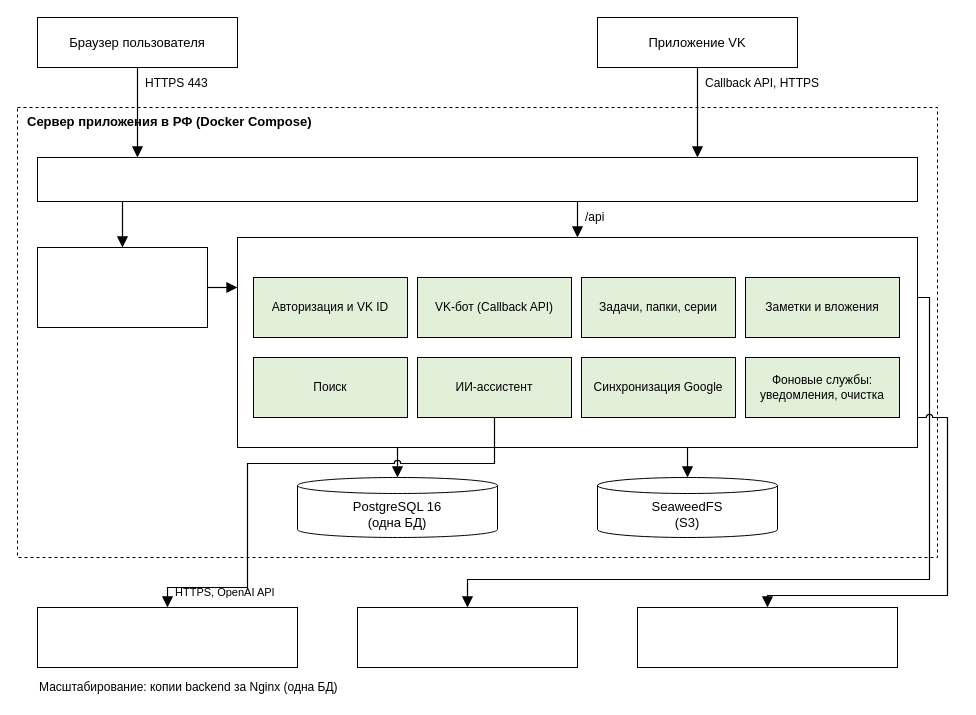
Some shapes in this 976 by 715 pixel diagram are drawn without their labels. Here are the shapes that lost their labels. From the top down, the box of each, then its label:
(36, 156, 918, 202): Nginx: обратный прокси, TLS
(36, 246, 208, 328): Frontend Next.js
(236, 236, 918, 448): Backend: одно приложение ASP.NET Core
(36, 606, 298, 668): GPU-сервер (RunPod): vLLM, Qwen3-14B-AWQ
(356, 606, 578, 668): VK API, VK ID
(636, 606, 898, 668): Google Calendar API
